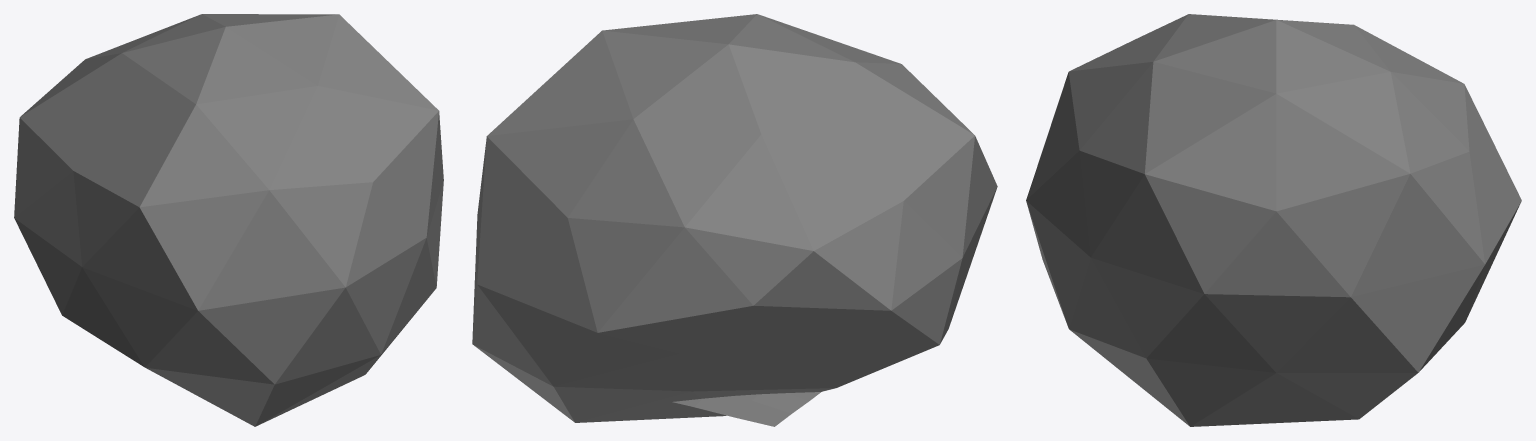
The model's file is rock-l-round.glb.
3 views of the same model, side by side, from view 1: azimuth 30°, elevation 25°; view 2: azimuth 150°, elevation 25°; view 3: azimuth 270°, elevation 25° (orthographic). The views are drawn at different scales.
Parts seen in each view (by area): view 1: rock-l-round; view 2: rock-l-round, rock-l-round-moss2; view 3: rock-l-round.
Part boxes in pixels (x1=…): rock-l-round: x1=14, y1=14, x2=443, y2=426; rock-l-round: x1=472, y1=14, x2=997, y2=422; rock-l-round-moss2: x1=672, y1=392, x2=820, y2=426; rock-l-round: x1=1026, y1=14, x2=1521, y2=426.
Bounding box in the file's own units: 3 × 2.66 × 3.35.
Materials: 3 (3 with a texture image).
